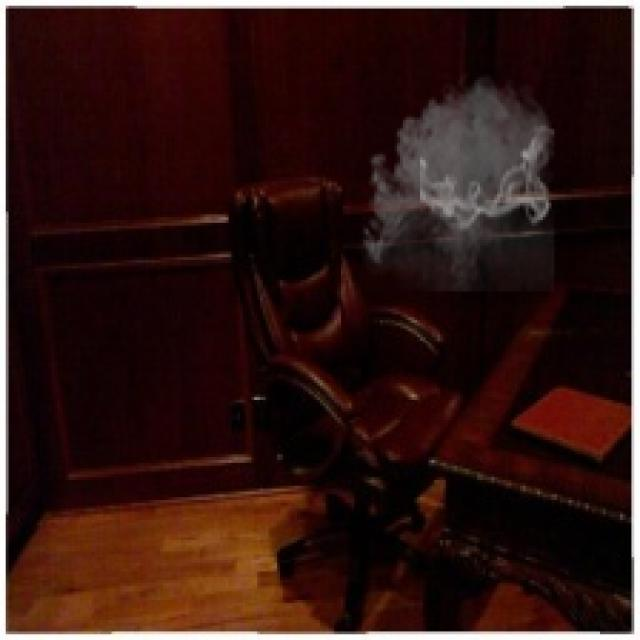smoke: (357, 66, 557, 291)
